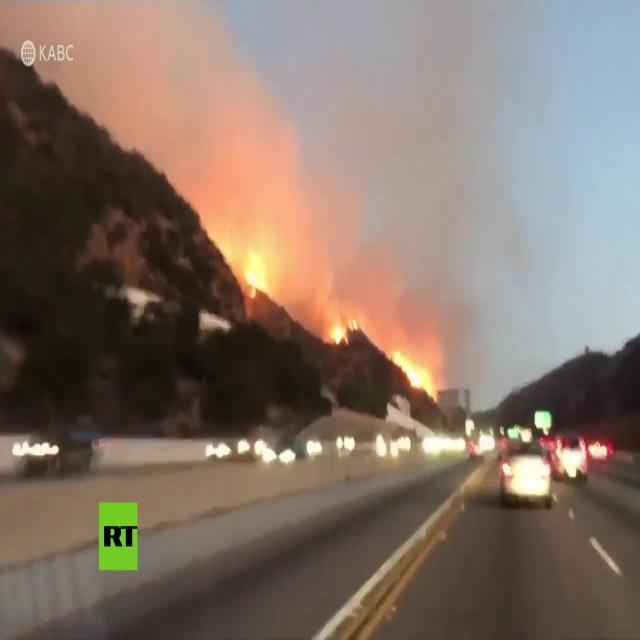Fire: (393, 349, 433, 396), (326, 312, 359, 348), (244, 250, 270, 292)
